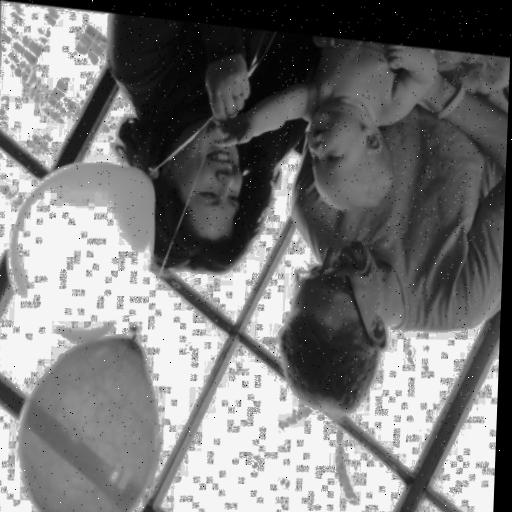balloon: (1, 151, 159, 345), (6, 323, 160, 512)
